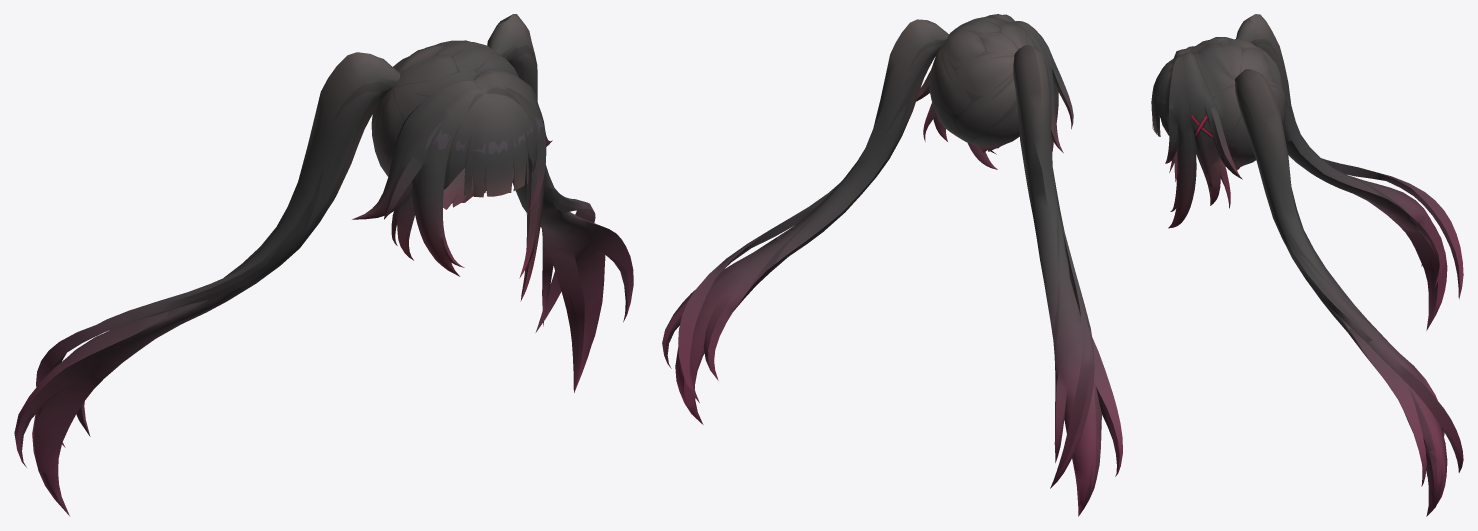
File: black_anime_hair.glb
3 views of the same model, side by side, from view 1: azimuth 30°, elevation 25°; view 2: azimuth 150°, elevation 25°; view 3: azimuth 270°, elevation 25° (orthographic). The views are drawn at different scales.
Visible parts, largest first — view 1: Object_2; view 2: Object_2; view 3: Object_2.
Part boxes in pixels (bbox=[...]): Object_2: bbox=[14, 14, 633, 516]; Object_2: bbox=[662, 14, 1122, 516]; Object_2: bbox=[1151, 14, 1463, 516].
Bounding box in the file's own units: 6.27 × 4.9 × 3.64.
Materials: 1 (1 with a texture image).
